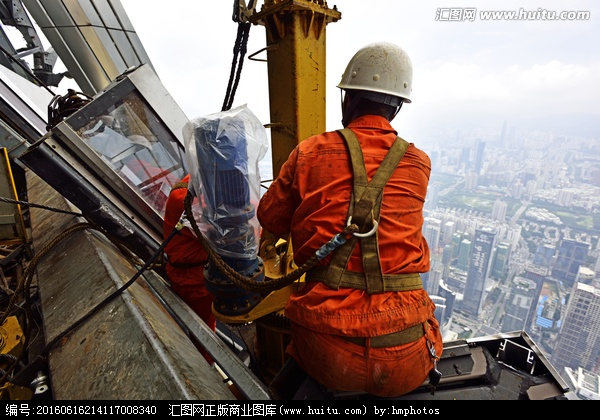white: (334, 38, 418, 127)
